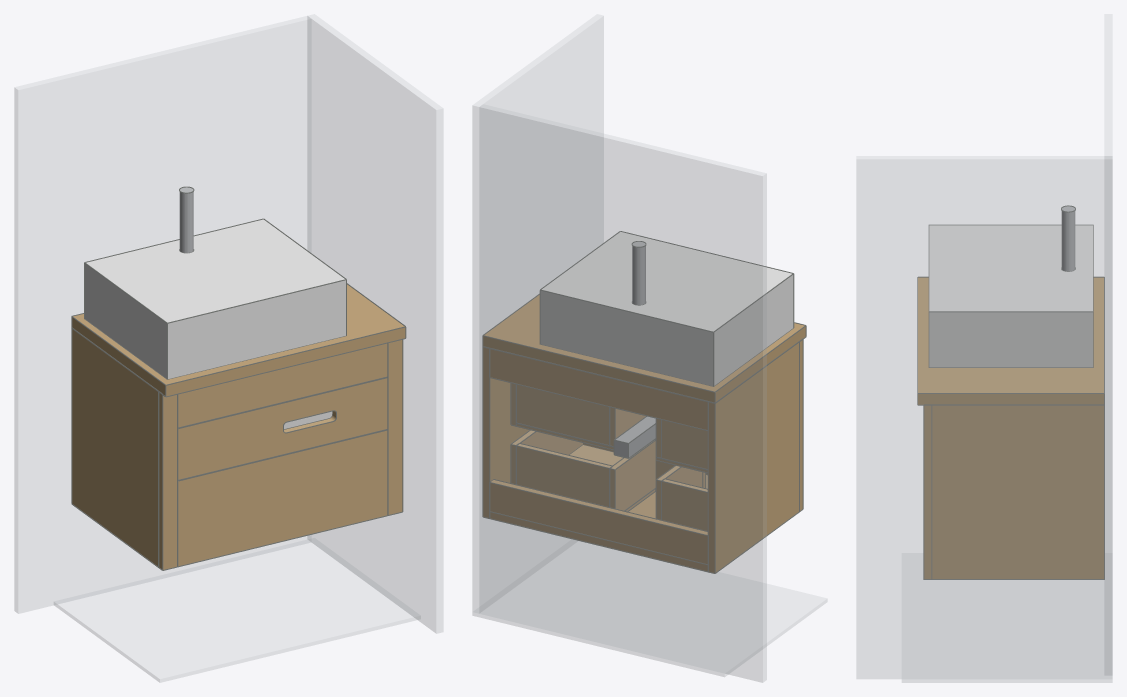
The model's file is modell.glb.
3 renders of one model, left to right at view 1: azimuth 30°, elevation 25°; view 2: azimuth 150°, elevation 25°; view 3: azimuth 270°, elevation 25°, orthographic. The views are drawn at different scales.
Bounding box in the file's own units: 840 × 1410 × 625.
